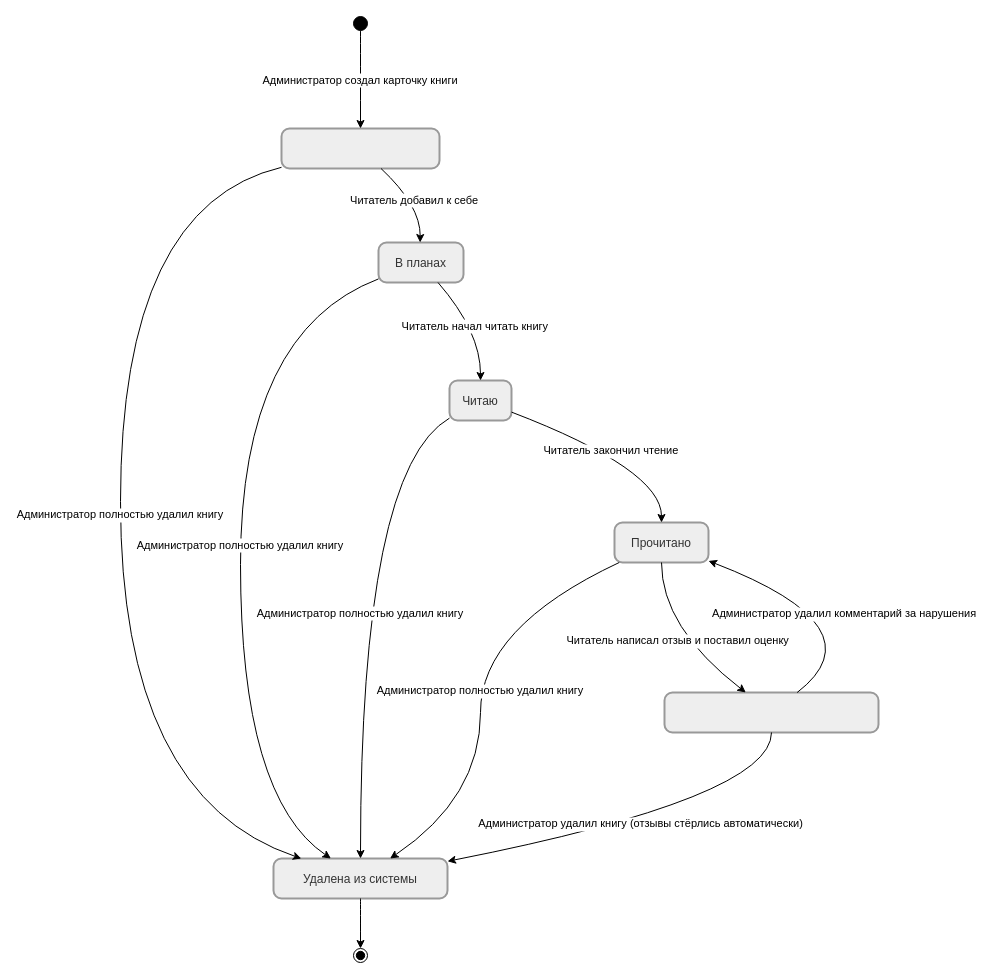
This 995x979 diagram has some shape labels left out. The shapes that lost their labels are listed below. From the top down, each one's box as (x1, y1, x2, y2) in pixels, then its label:
(280, 127, 440, 169): Внесена в каталог
(663, 691, 879, 733): Оценена с комментарием
